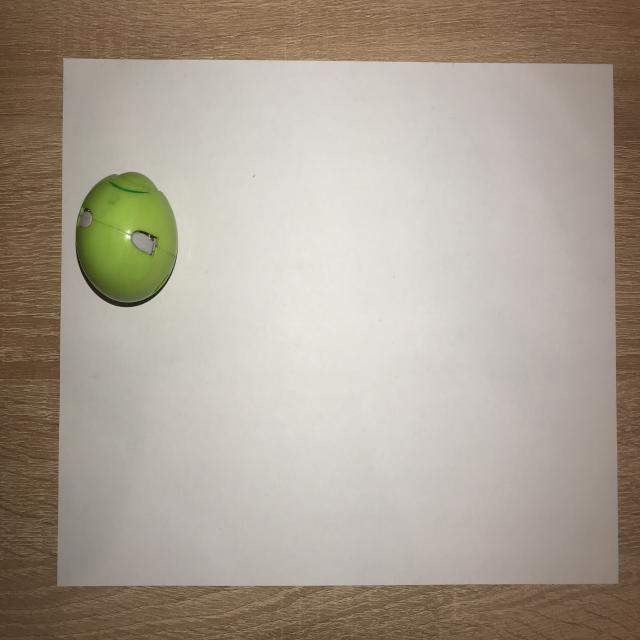toy: (71, 164, 181, 315)
